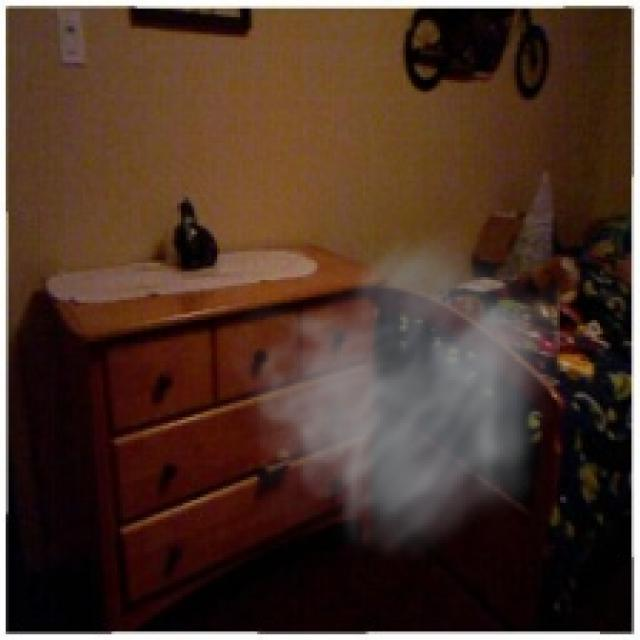Smoke: (217, 220, 560, 569)
